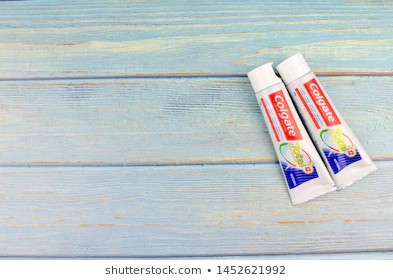colgate-total-150gm: (283, 44, 379, 188), (241, 58, 329, 208)
